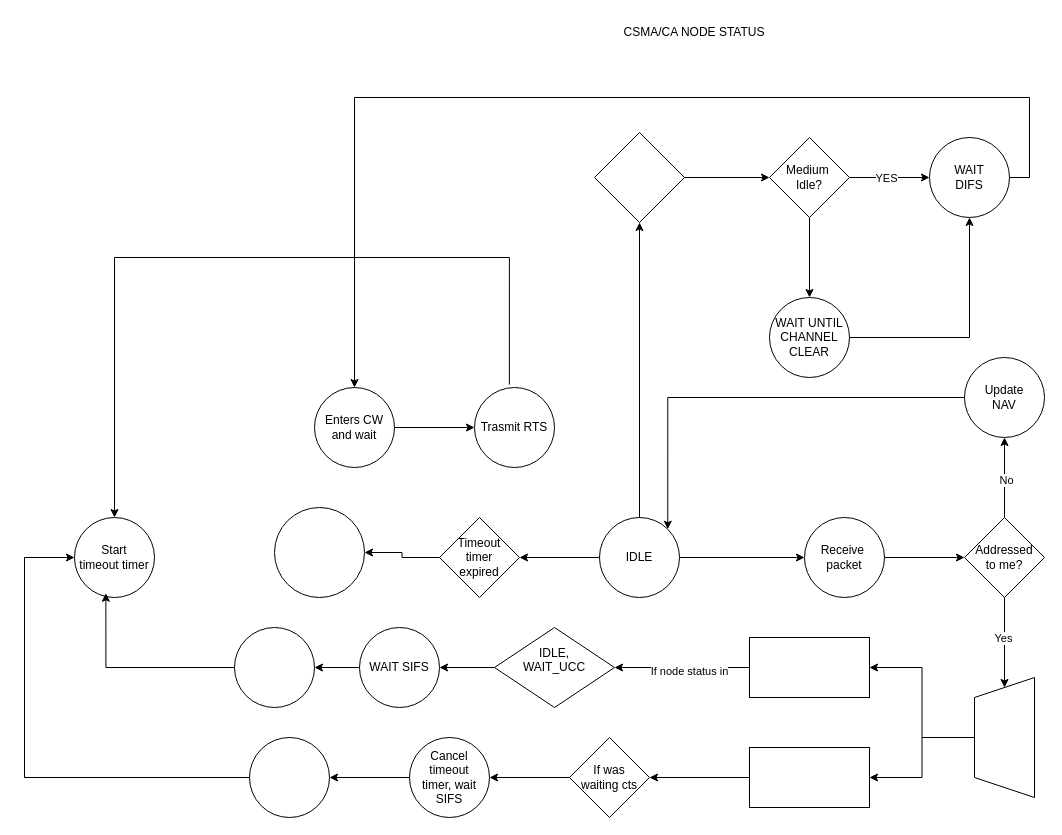
The diagram is 1062 pixels wide and 835 high, and some of its shapes have lost their labels. The box of each missing label's shape, as (x1, y1, x2, y2) in pixels:
CTS: (748, 746, 870, 808)
Has to send data packet?: (594, 132, 684, 222)
Re-trasmit packet + Restart timeout timer: (274, 506, 364, 598)
RTS: (748, 636, 870, 698)
SEND CTS: (234, 626, 314, 708)
Send data: (248, 736, 330, 818)
Switch Packet type: (974, 676, 1034, 798)
